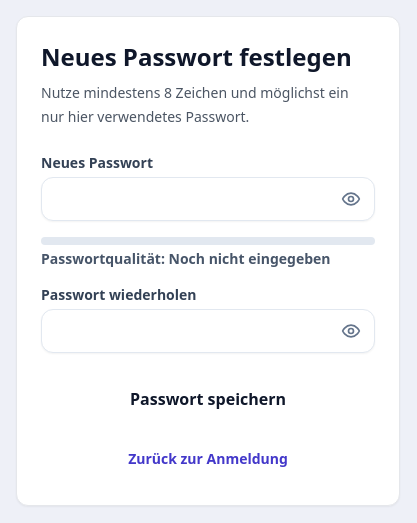
Test: authentication return flow › keeps the return target after a successful password reset
This screenshot has width=417, height=523.
Type "new-password-123" into the password field labelled "Neues Passwort".
click(208, 199); type("new-password-123")  # box [41,177,375,221]
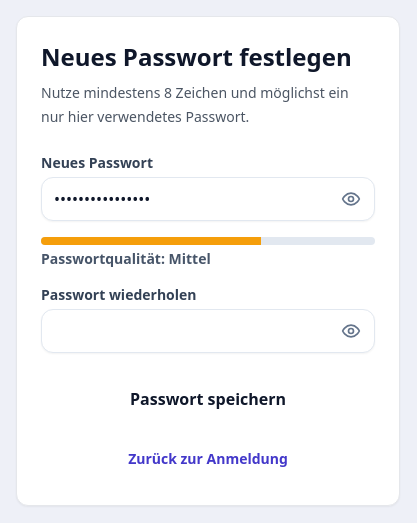
Type "new-password-123" into the password field labelled "Passwort wiederholen".
click(208, 331); type("new-password-123")  # box [41,309,375,353]
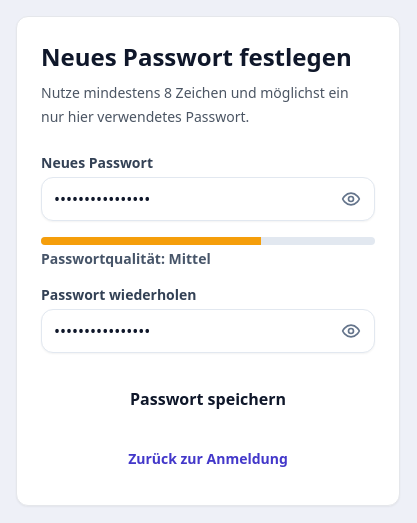
Click the button "Passwort speichern".
click(208, 399)  # box [41,377,375,421]
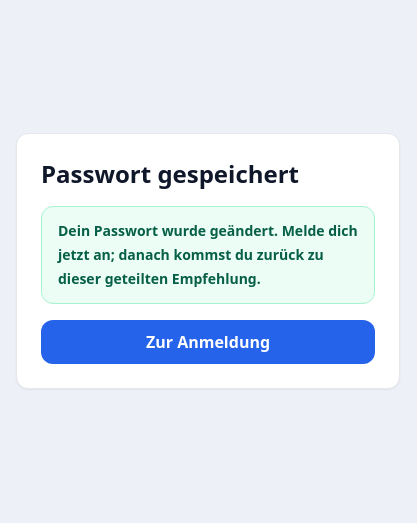
Expected: the heading "Passwort gespeichert" is shown, [41,157,299,190]
